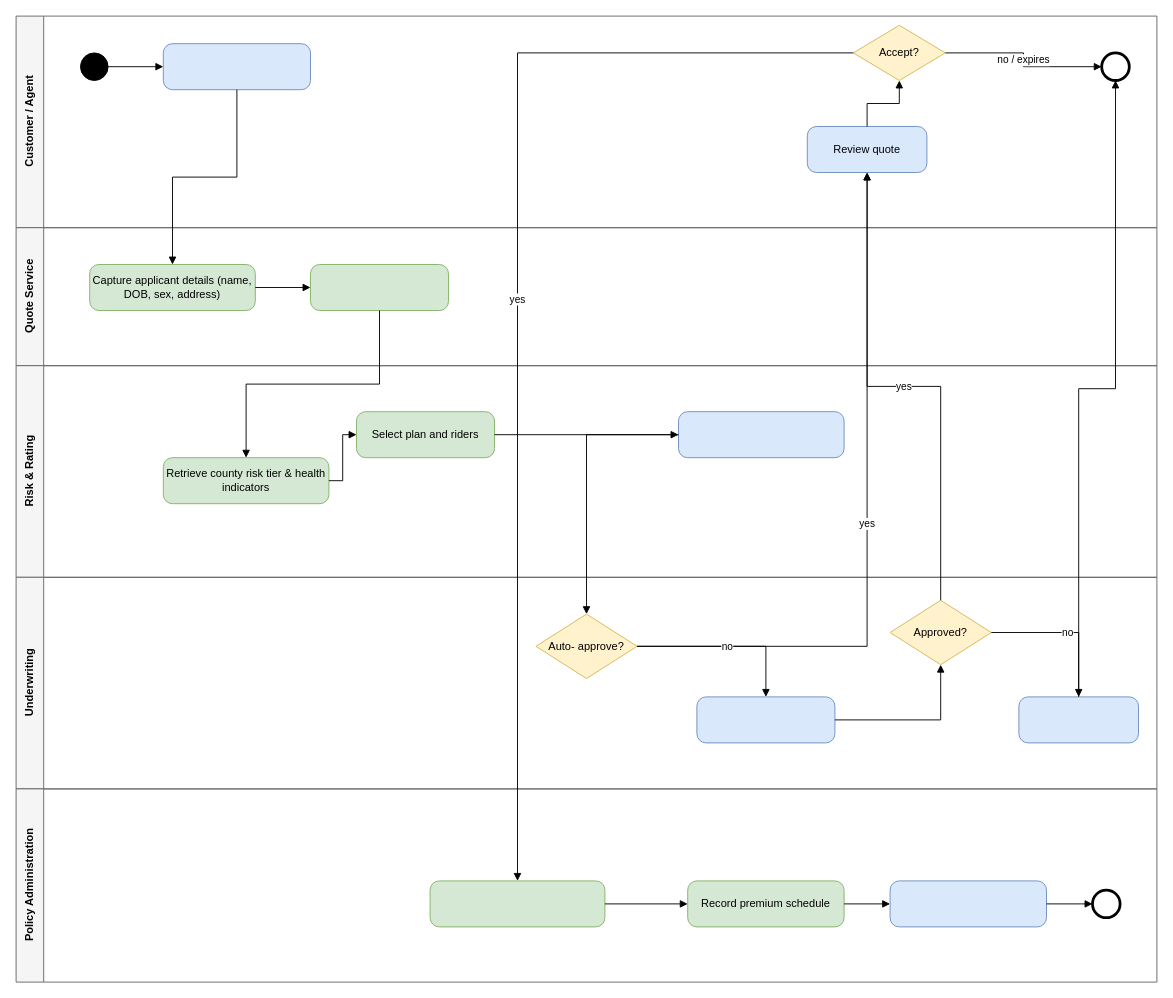
Some shapes in this 1173 by 998 pixel diagram are drawn without their labels. The shapes that lost their labels are listed below. From the top down, each one's centre as x and y in pixels, then its label:
point (236, 66): Submit quote request (web / agent portal)
point (379, 287): Resolve address ZIP -> county
point (761, 434): Calculate premium (base rate + risk factors)
point (765, 719): Manual underwriting review
point (1078, 719): Decline or counter-offer
point (517, 903): Issue policy (contract, parties, benefits)
point (967, 903): Activate billing & send confirmation
